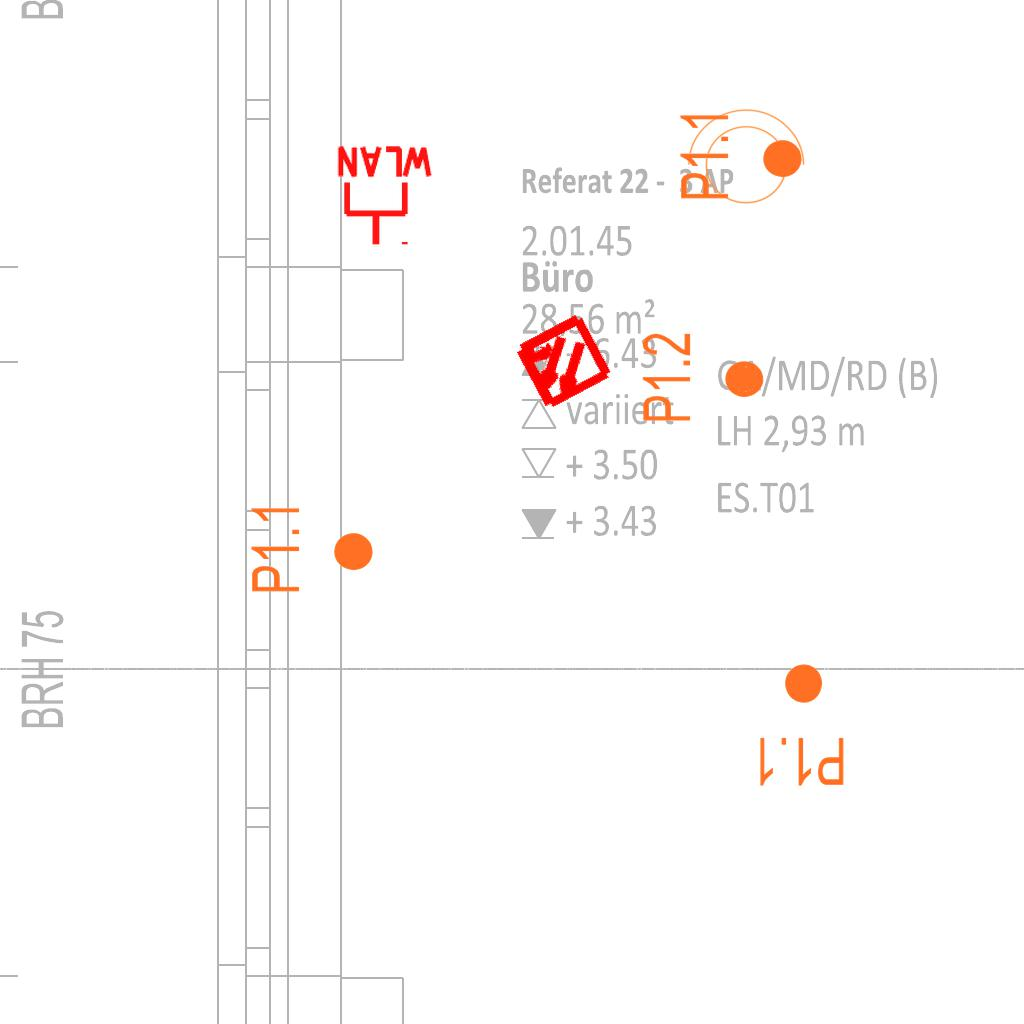Downlight_LED_Einbauleuchten_Flur: (639, 331, 767, 424), (248, 502, 376, 595), (754, 661, 847, 789), (677, 109, 805, 202)
OT_Multisensormelder_(Kombination_RMO_WMD): (485, 286, 638, 439)
Scheinwerfer_fuer_Alarmbeleuchtung: (677, 104, 809, 216)
WLAN: (333, 144, 437, 249)
